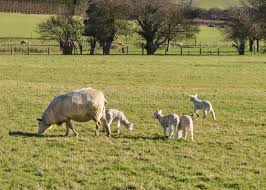sheep: (37, 85, 106, 139), (106, 105, 134, 138), (152, 109, 179, 142), (189, 92, 216, 121), (176, 110, 194, 144)
